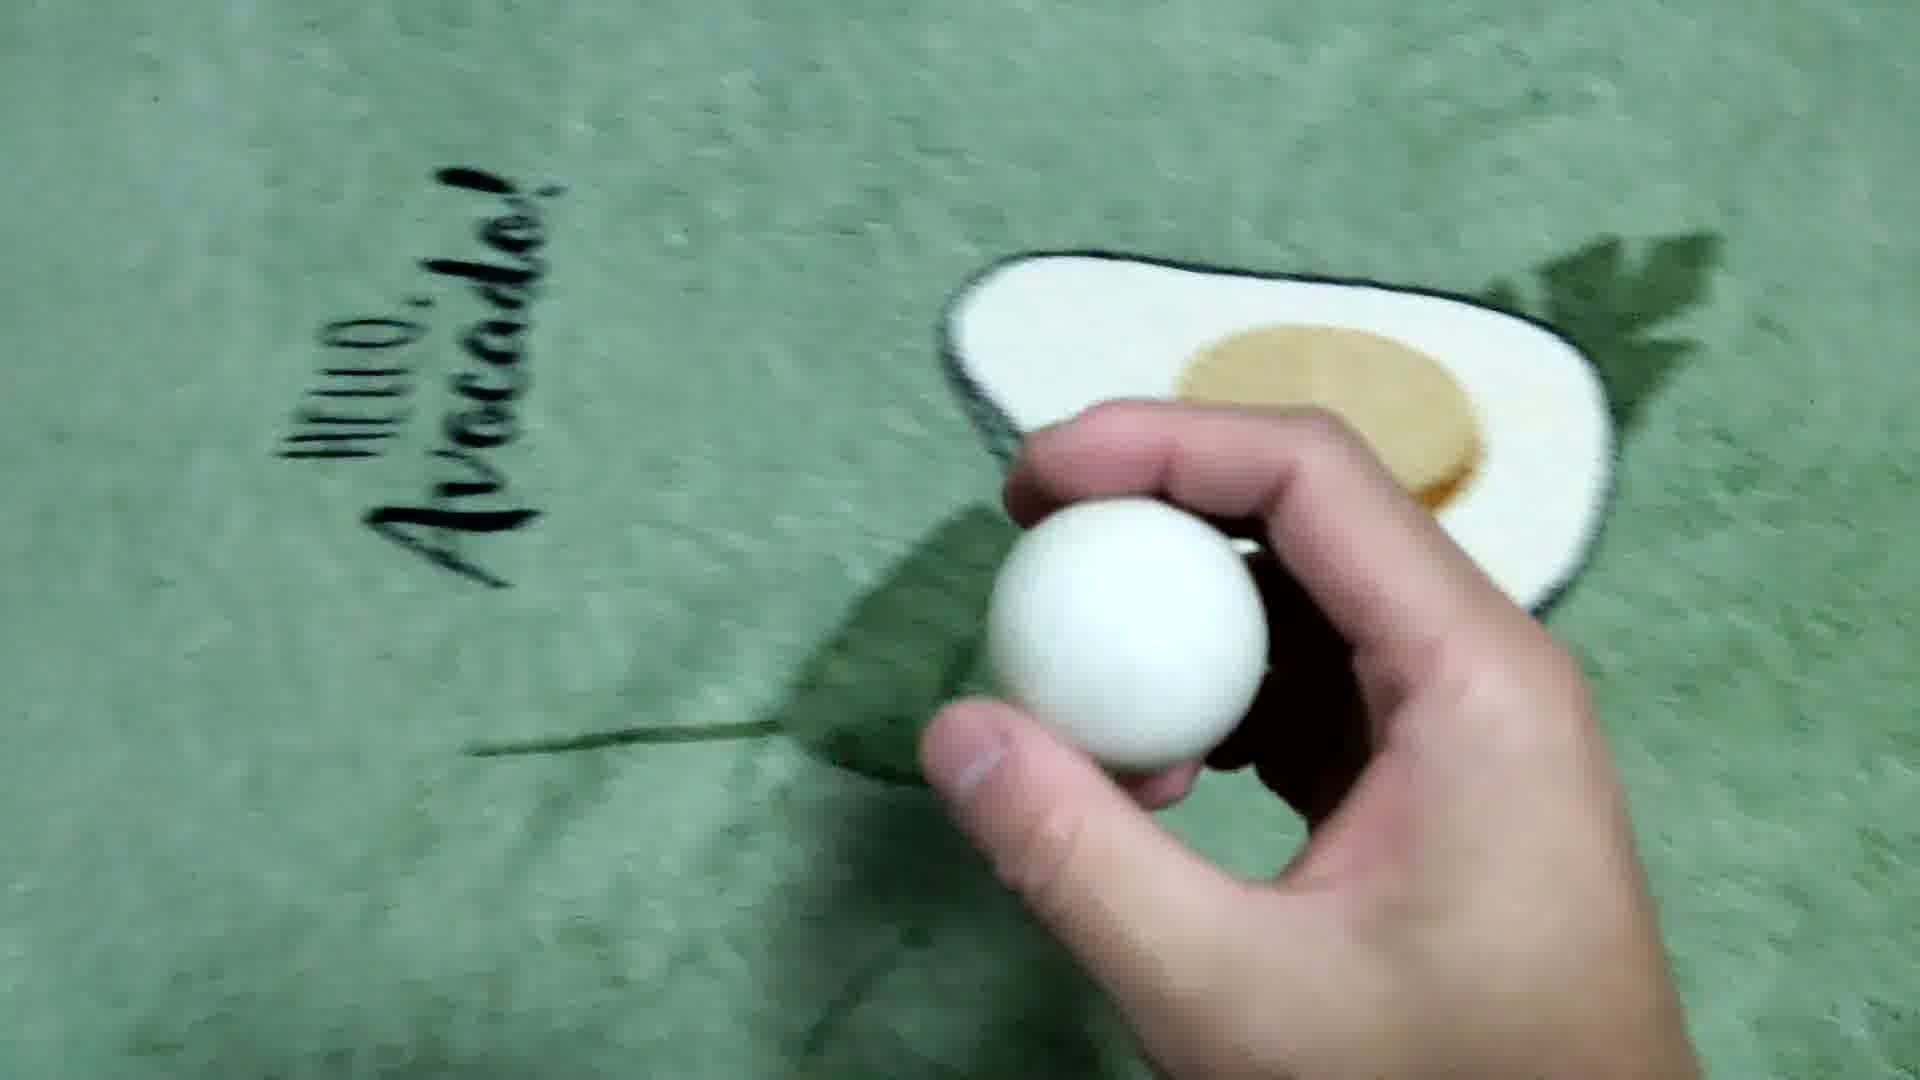Ball: (985, 498, 1265, 761)
